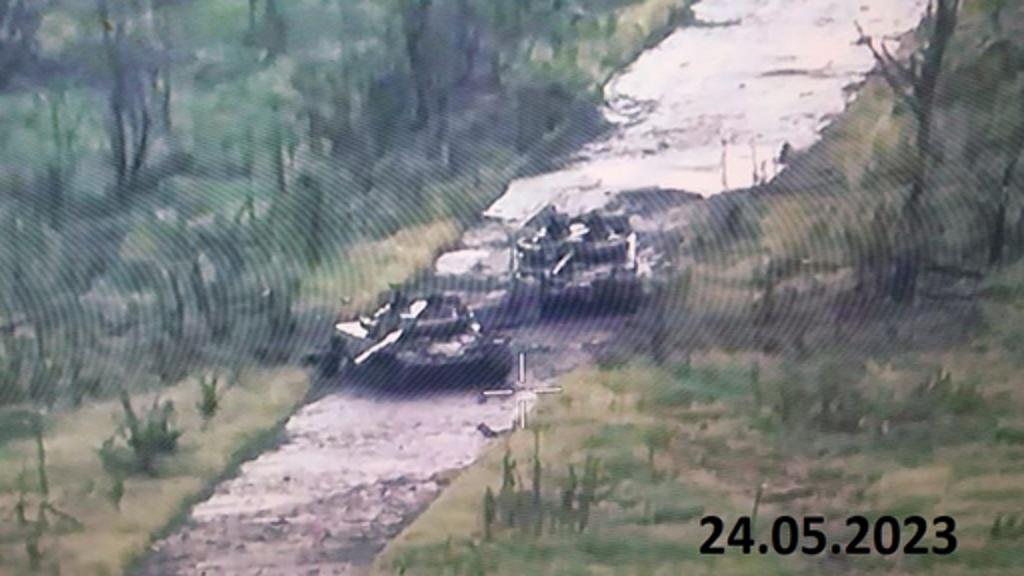TANK: (312, 284, 514, 392), (504, 194, 648, 310)
